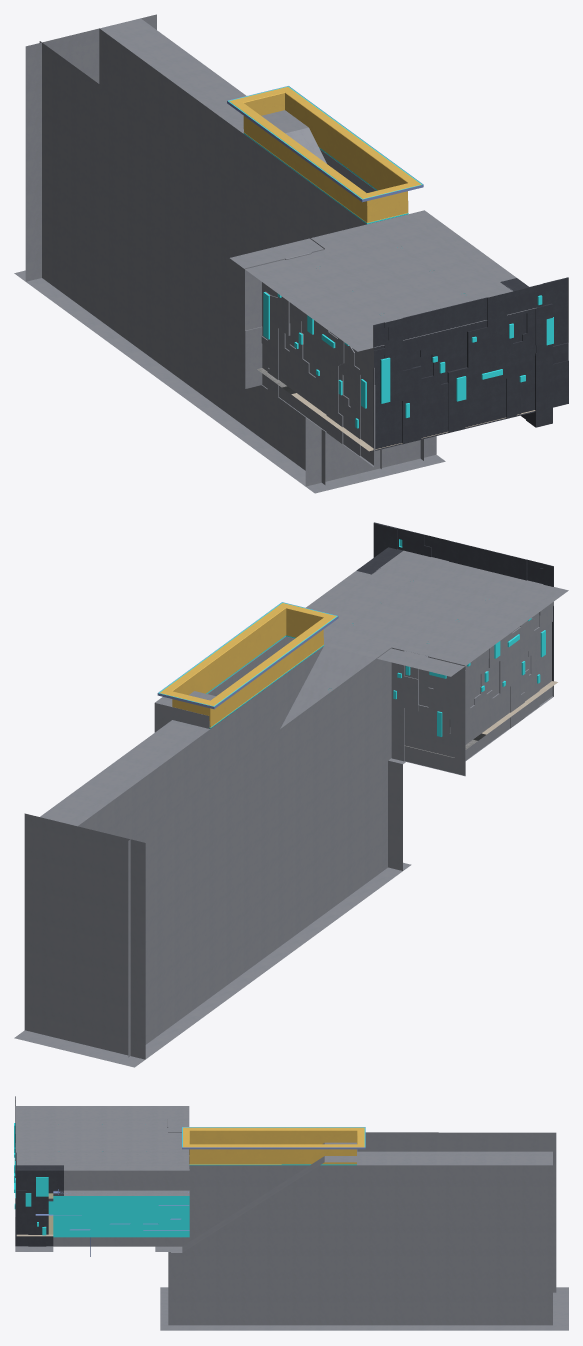
The model's file is EntranceA.fbx.
3 views of the same model, one above another, from view 1: azimuth 30°, elevation 25°; view 2: azimuth 150°, elevation 25°; view 3: azimuth 270°, elevation 25° (orthographic). The views are drawn at different scales.
Visible parts, largest first — view 1: SM_VA_EntranceA.mo; view 2: SM_VA_EntranceA.mo; view 3: SM_VA_EntranceA.mo.
Boxes of the visible parts, bbox=[...] form: SM_VA_EntranceA.mo: bbox=[14, 14, 568, 493]; SM_VA_EntranceA.mo: bbox=[14, 522, 568, 1067]; SM_VA_EntranceA.mo: bbox=[14, 1096, 568, 1330].
Bounding box in the file's own units: 13 × 15.67 × 43.51.
